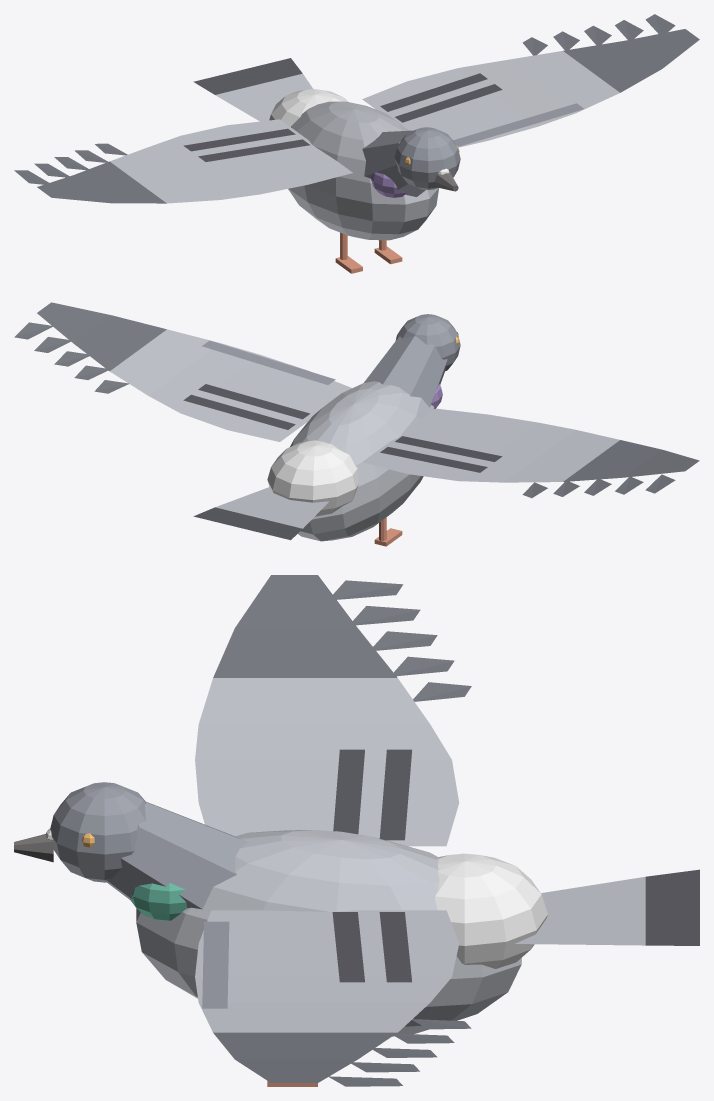
Rendered from pigeon.glb.
3 views of the same model, one above another, from view 1: azimuth 30°, elevation 25°; view 2: azimuth 150°, elevation 25°; view 3: azimuth 270°, elevation 25° (orthographic). The views are drawn at different scales.
Visible parts, largest first — view 1: body, wing_R, wing_L; view 2: body, wing_R, wing_L; view 3: body, wing_L, wing_R.
Boxes of the visible parts, x1,y1,x2,y2 form: body: [193, 58, 460, 273]; wing_R: [362, 14, 699, 147]; wing_L: [14, 119, 352, 203]; body: [193, 314, 460, 546]; wing_R: [14, 302, 351, 441]; wing_L: [362, 408, 699, 498]; body: [14, 782, 699, 1086]; wing_L: [195, 575, 471, 846]; wing_R: [195, 910, 471, 1086].
Bounding box in the file's own units: 0.664 × 0.1705 × 0.379.
